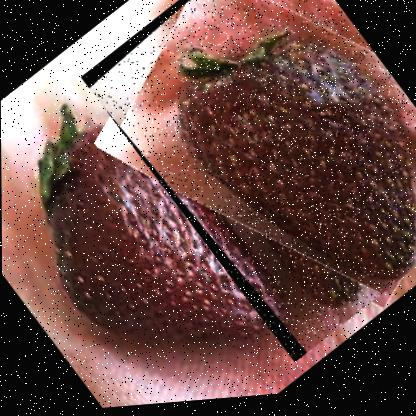strawberry_rotten: (79, 0, 415, 383)
